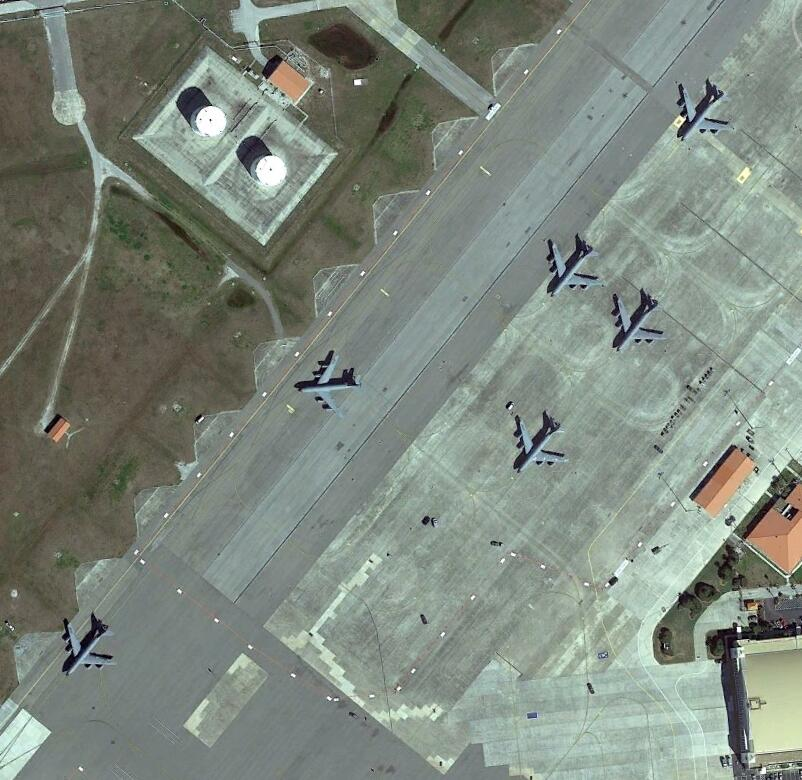A14: (296, 352, 364, 421), (544, 235, 606, 300), (514, 410, 575, 476), (676, 82, 740, 143), (611, 290, 672, 354), (59, 617, 118, 676)
